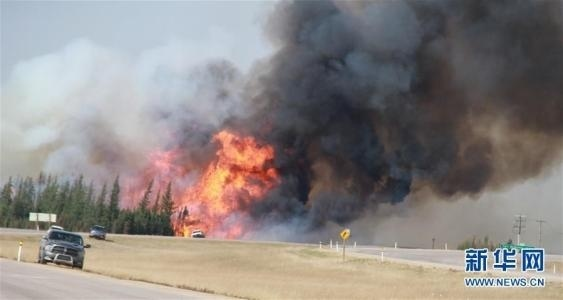fire: (130, 127, 281, 238)
